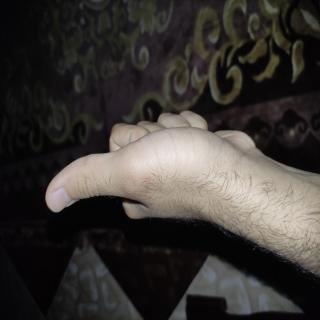ALIF: (59, 56, 165, 320)
